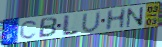B: (38, 16, 58, 39)
C: (19, 19, 39, 40)
H: (105, 7, 128, 32)
L: (60, 14, 80, 37)
N: (126, 7, 145, 29)
U: (81, 11, 102, 33)
